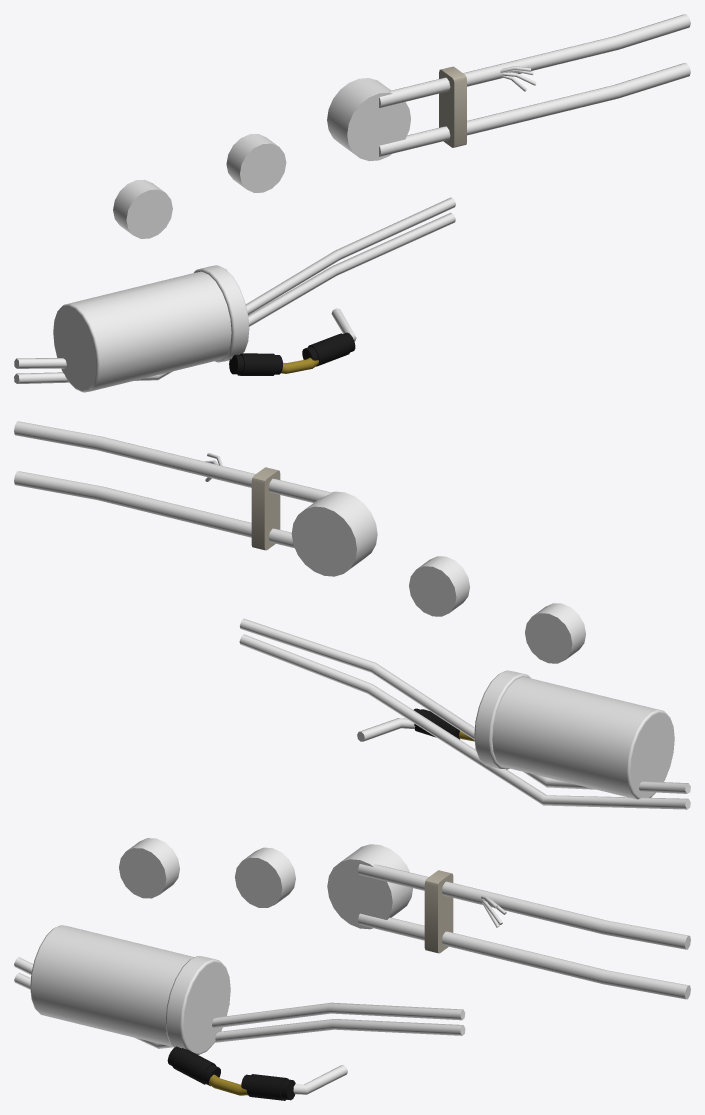
Rendered from WorkerHand_DriveStatic.fbx.
3 renders of one model, top to bottom at view 1: azimuth 30°, elevation 25°; view 2: azimuth 150°, elevation 25°; view 3: azimuth 330°, elevation 25°, orthographic. The views are drawn at different scales.
Parts seen in each view (by area): view 1: Hand_DriveMotor, Hand_DriveBearings, Hand_DriveTendons, Hand_LimiterWire2, Hand_LimiterWire1, Hand_PowerSpliceTape, Hand_TendonZipTie; view 2: Hand_DriveMotor, Hand_DriveBearings, Hand_DriveTendons, Hand_LimiterWire2, Hand_LimiterWire1, Hand_TendonZipTie, Hand_PowerLeadOriginal2; view 3: Hand_DriveMotor, Hand_DriveBearings, Hand_DriveTendons, Hand_LimiterWire2, Hand_LimiterWire1, Hand_PowerSpliceTape, Hand_TendonZipTie, Hand_PowerLeadOriginal2, Hand_PowerSpliceWire.
Boxes of the visible parts, box(x1,y1,x2,y2) form: Hand_DriveMotor: box(53, 265, 249, 392); Hand_DriveBearings: box(113, 78, 410, 238); Hand_DriveTendons: box(379, 14, 690, 156); Hand_LimiterWire2: box(14, 212, 455, 383); Hand_LimiterWire1: box(14, 197, 455, 368); Hand_PowerSpliceTape: box(229, 332, 355, 375); Hand_TendonZipTie: box(439, 66, 466, 147); Hand_DriveMotor: box(474, 670, 674, 799); Hand_DriveBearings: box(291, 491, 585, 663); Hand_DriveTendons: box(14, 421, 331, 548); Hand_LimiterWire2: box(239, 634, 690, 809); Hand_LimiterWire1: box(240, 618, 690, 793); Hand_TendonZipTie: box(251, 467, 280, 550); Hand_PowerLeadOriginal2: box(357, 718, 415, 741); Hand_DriveMotor: box(30, 925, 230, 1054); Hand_DriveBearings: box(119, 838, 412, 929); Hand_DriveTendons: box(358, 864, 690, 999); Hand_LimiterWire2: box(14, 972, 465, 1048); Hand_LimiterWire1: box(14, 957, 465, 1028); Hand_PowerSpliceTape: box(167, 1046, 295, 1100); Hand_TendonZipTie: box(424, 870, 453, 953); Hand_PowerLeadOriginal2: box(293, 1065, 347, 1094); Hand_PowerSpliceWire: box(209, 1074, 247, 1095).
Size of the model in its own units: 0.1143 by 0.0404 by 0.0155.
